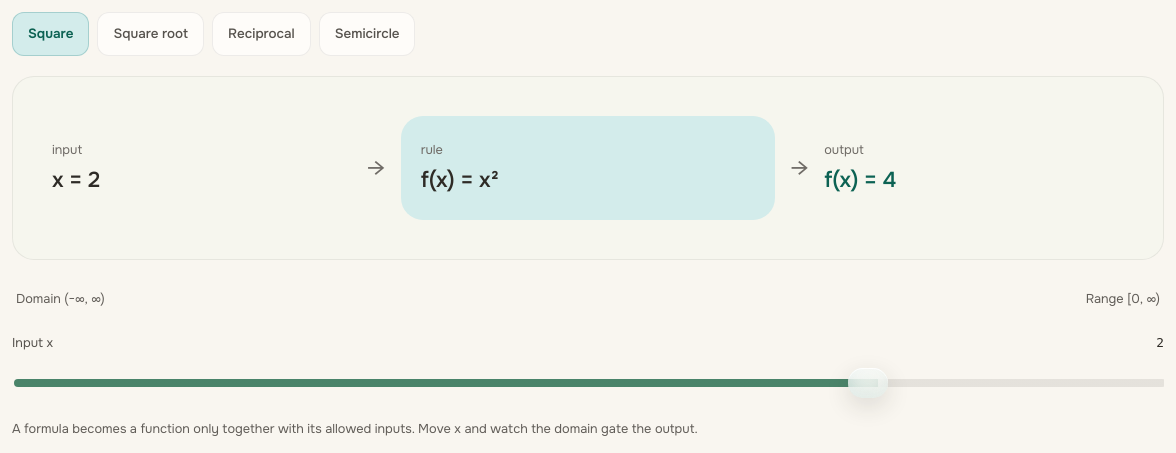
Test: SystemsDiagram › marks an input outside a function's natural domain
Click the tab "Square root".
click(151, 34)  # box top-left (97, 12), bottom-right (204, 56)
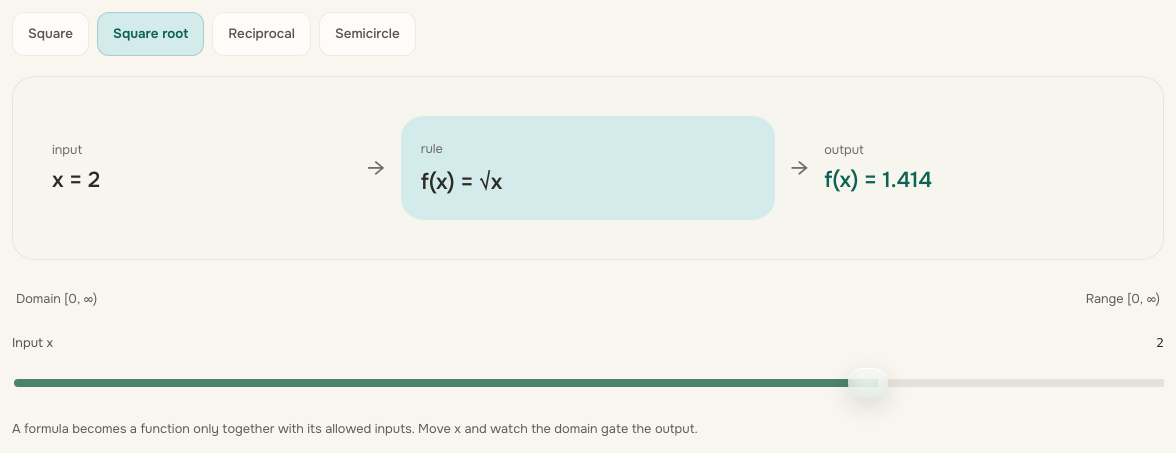
Set the slider named "Input x" to "-1" at (447, 383), box top-left (14, 361), bottom-right (1164, 405)
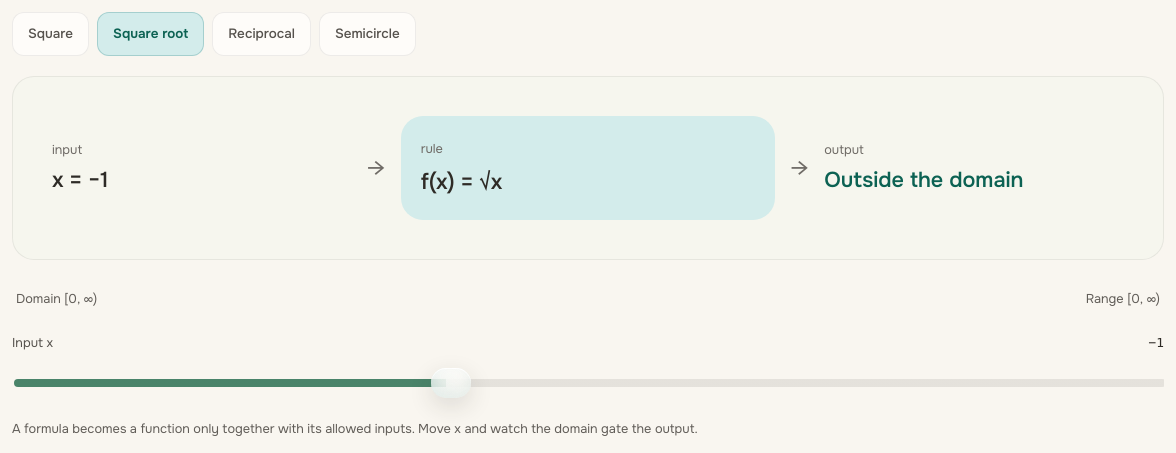
Check: the text "Domain [0, ∞)" is shown, box top-left (16, 288), bottom-right (97, 307)
Check: the text "Outside the domain" is shown, box top-left (824, 166), bottom-right (1024, 194)
